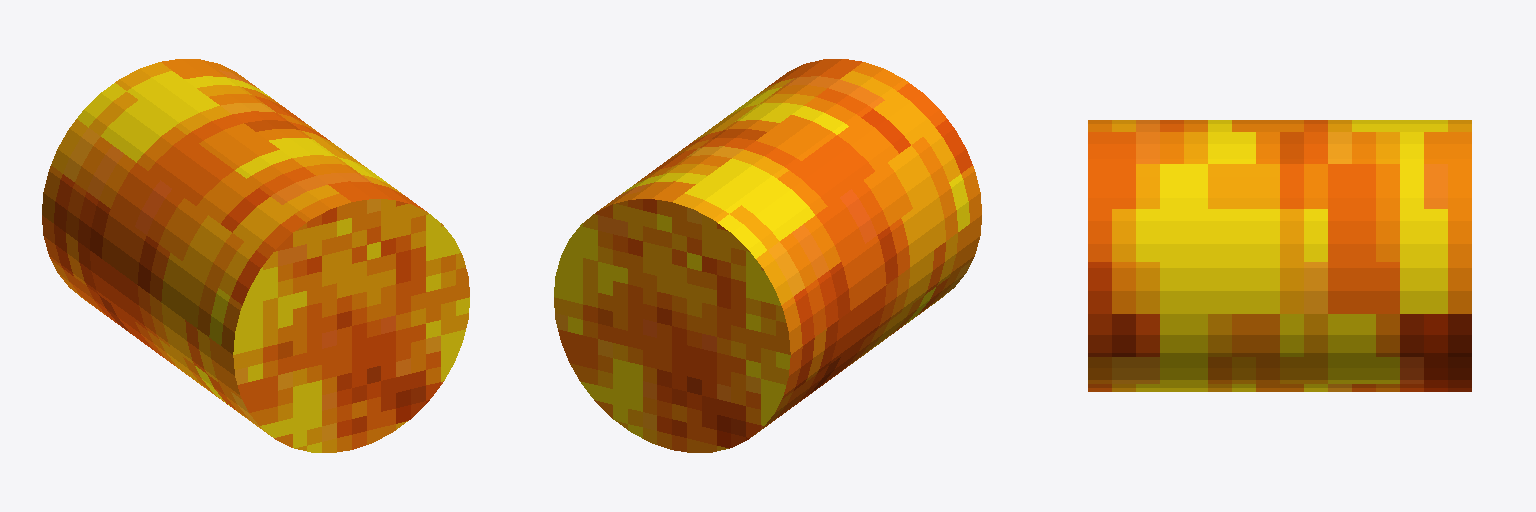
The picture shows the model from 3 angles: view 1: azimuth 30°, elevation 25°; view 2: azimuth 150°, elevation 25°; view 3: azimuth 270°, elevation 25°; orthographic projection.
Visible parts, largest first — view 1: Cylinder; view 2: Cylinder; view 3: Cylinder.
Part boxes in pixels (x1,y1,x2,y2): Cylinder: (42,59,469,452); Cylinder: (554,59,981,452); Cylinder: (1088,120,1471,391).
Size of the model in its own units: 1.5 by 1.5 by 2.1.
Materials: 1 (1 with a texture image).